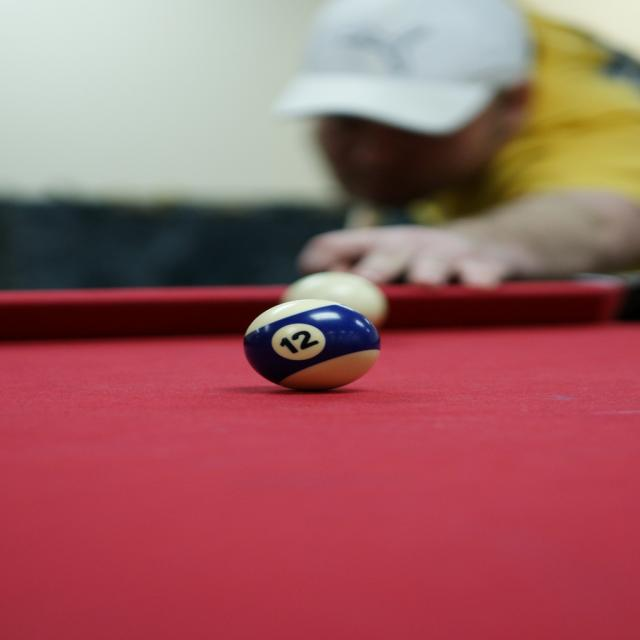Ball: (243, 299, 381, 391), (280, 272, 386, 327)
Billiard table: (0, 272, 640, 640)
